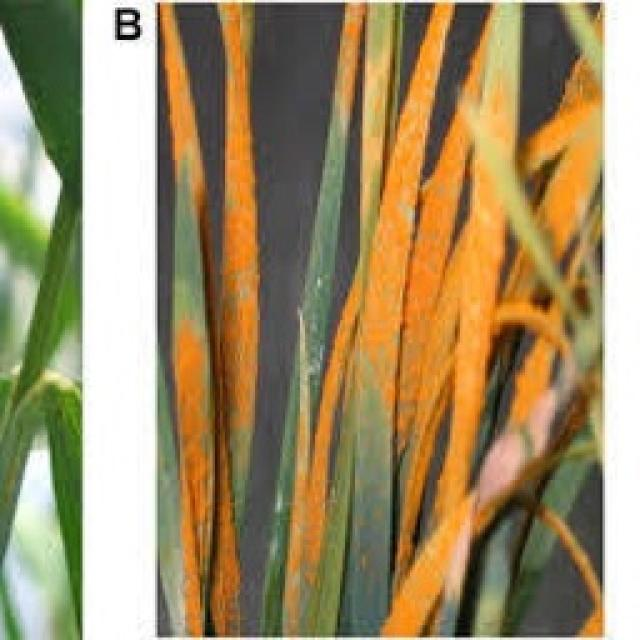Yellow Rust: (158, 2, 600, 632)
